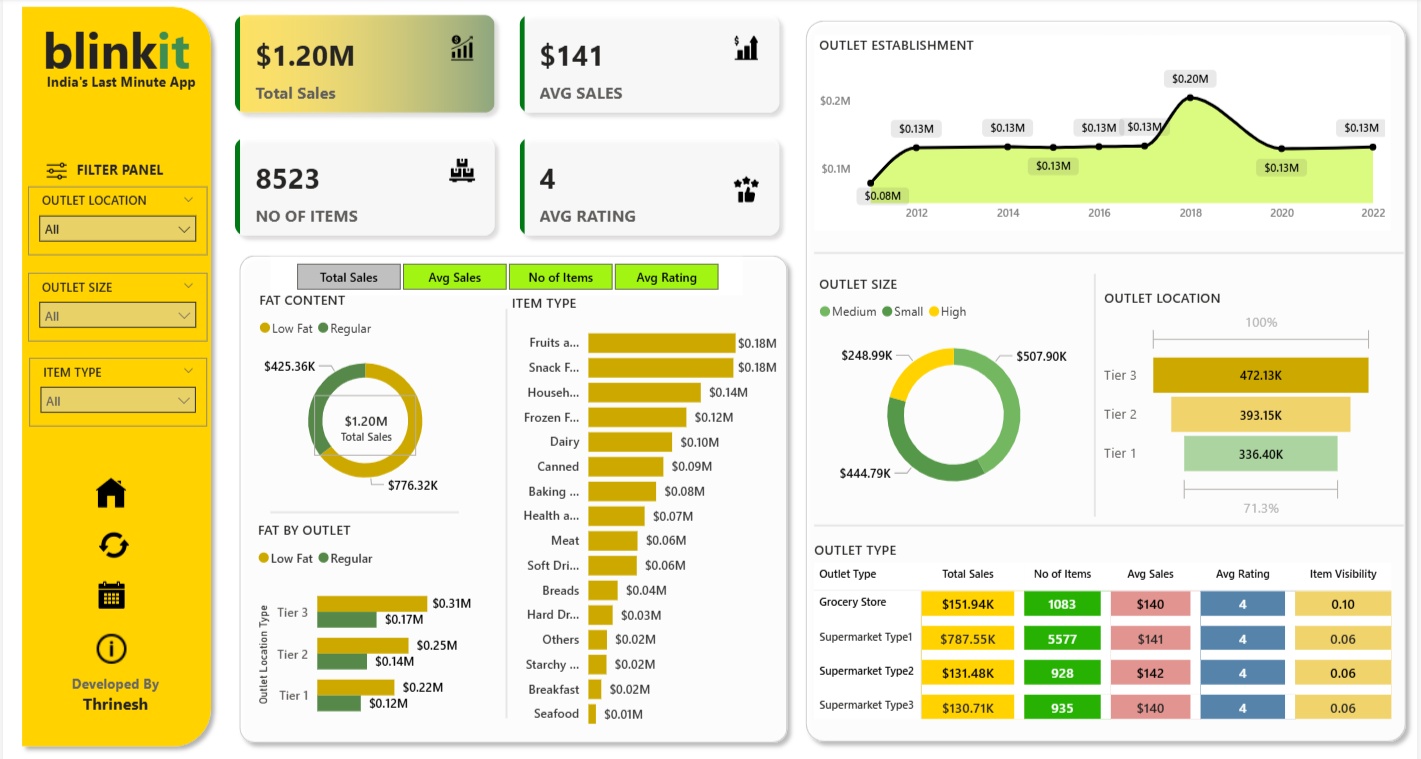

The page's visual inventory and layout, read from the dashboard file:
{"tool":"powerbi","page":{"name":"Page 1","canvas":[1400,800],"ordinal":0},"visuals":[{"type":"shape","box":[785,13.3,611.7,731.7],"z":0},{"type":"shape","box":[10,0,205,750],"z":1000},{"type":"textbox","box":[19.1,13.6,195,110.4],"z":2000},{"type":"textbox","box":[38.2,69.5,175.9,36.8],"z":3000},{"type":"cardVisual","fields":{"Data":["BlinkIT Grocery Data.Total Sales","BlinkIT Grocery Data.Avg Sales","BlinkIT Grocery Data.No of Items","BlinkIT Grocery Data.Avg Rating"]},"box":[212.7,0,572.6,253.6],"z":4000},{"type":"shape","box":[225.6,245.6,560,500],"z":5000},{"type":"donutChart","title":"FAT CONTENT","fields":{"Y":["BlinkIT Grocery Data.Total Sales"],"Category":["BlinkIT Grocery Data.Item Fat Content"]},"box":[248.8,290,220,212.5],"z":6000},{"type":"slicer","fields":{"Values":["Metrics.Metrics"]},"box":[265.9,254.9,467.6,38.2],"z":7000},{"type":"cardVisual","fields":{"Data":["BlinkIT Grocery Data.Total Sales"]},"box":[302.7,388.6,111.8,70.9],"z":8000},{"type":"clusteredBarChart","title":"FAT BY OUTLET","fields":{"Y":["BlinkIT Grocery Data.Total Sales"],"Category":["BlinkIT Grocery Data.Outlet Location Type"],"Series":["BlinkIT Grocery Data.Item Fat Content"]},"box":[247.5,517.5,221.2,212.5],"z":9000},{"type":"shape","box":[265,491.2,186.2,36.2],"z":10000},{"type":"shape","box":[405,307.5,187.5,405],"z":11000},{"type":"barChart","title":"ITEM TYPE","fields":{"Y":["BlinkIT Grocery Data.Total Sales"],"Category":["BlinkIT Grocery Data.Item Type"]},"box":[499,291.8,272.7,441.7],"z":12000},{"type":"shape","box":[803.3,230,583.3,45],"z":13000},{"type":"donutChart","title":"OUTLET SIZE","fields":{"Y":["BlinkIT Grocery Data.Total Sales"],"Category":["BlinkIT Grocery Data.Outlet Size"]},"box":[803.3,273.3,276.7,233.3],"z":14000},{"type":"shape","box":[986.7,273.3,186.7,240],"z":15000},{"type":"funnel","title":"OUTLET LOCATION","fields":{"Y":["Sum(BlinkIT Grocery Data.Sales)"],"Category":["BlinkIT Grocery Data.Outlet Location Type"]},"box":[1085,286.7,276.7,233.3],"z":16000},{"type":"shape","box":[803.3,500,583.3,45],"z":17000},{"type":"pivotTable","title":"OUTLET TYPE","fields":{"Rows":["BlinkIT Grocery Data.Outlet Type"],"Values":["BlinkIT Grocery Data.Total Sales","BlinkIT Grocery Data.No of Items","BlinkIT Grocery Data.Avg Sales","BlinkIT Grocery Data.Avg Rating","Avg(BlinkIT Grocery Data.Item Visibility)"]},"box":[797.5,536.2,582.5,185],"z":18000},{"type":"lineChart","title":"OUTLET ESTABLISHMENT","fields":{"Y":["BlinkIT Grocery Data.Total Sales"],"Category":["BlinkIT Grocery Data.Outlet Establishment Year"]},"box":[803.3,36.7,570,193.3],"z":19000},{"type":"slicer","fields":{"Values":["BlinkIT Grocery Data.Outlet Location Type"]},"box":[24.5,186.8,177.2,68.2],"z":20000},{"type":"slicer","fields":{"Values":["BlinkIT Grocery Data.Outlet Size"]},"box":[24.5,272.7,177.2,68.2],"z":21000},{"type":"slicer","fields":{"Values":["BlinkIT Grocery Data.Item Type"]},"box":[25.9,355.8,175.9,68.2],"z":22000},{"type":"textbox","box":[68.2,155.4,98.2,31.4],"z":23000},{"type":"image","box":[38.2,155.4,30,31.4],"z":24000},{"type":"image","box":[84.5,470.4,46.4,40.9],"z":25000},{"type":"image","box":[87.3,572.6,39.5,38.2],"z":26000},{"type":"image","box":[87.3,624.4,39.5,39.5],"z":27000},{"type":"image","box":[87.3,522.2,43.6,39.5],"z":28000}]}

Visuals, with their boxes on the page's 1400x800 design canvas (x1, y1, x2, y2). These are canvas units, not pixel positions in the 1421x759 screenshot, which may show the page scaled, cropped or inside an application window:
shape: [left=785, top=13, right=1397, bottom=745]
shape: [left=10, top=0, right=215, bottom=750]
textbox: [left=19, top=14, right=214, bottom=124]
textbox: [left=38, top=70, right=214, bottom=106]
cardVisual - BlinkIT Grocery Data.Total Sales x BlinkIT Grocery Data.Avg Sales: [left=213, top=0, right=785, bottom=254]
shape: [left=226, top=246, right=786, bottom=746]
"FAT CONTENT" donutChart: [left=249, top=290, right=469, bottom=502]
slicer - Metrics.Metrics: [left=266, top=255, right=734, bottom=293]
cardVisual - BlinkIT Grocery Data.Total Sales: [left=303, top=389, right=414, bottom=460]
"FAT BY OUTLET" clusteredBarChart: [left=248, top=518, right=469, bottom=730]
shape: [left=265, top=491, right=451, bottom=527]
shape: [left=405, top=308, right=592, bottom=712]
"ITEM TYPE" barChart: [left=499, top=292, right=772, bottom=734]
shape: [left=803, top=230, right=1387, bottom=275]
"OUTLET SIZE" donutChart: [left=803, top=273, right=1080, bottom=507]
shape: [left=987, top=273, right=1173, bottom=513]
"OUTLET LOCATION" funnel: [left=1085, top=287, right=1362, bottom=520]
shape: [left=803, top=500, right=1387, bottom=545]
"OUTLET TYPE" pivotTable: [left=798, top=536, right=1380, bottom=721]
"OUTLET ESTABLISHMENT" lineChart: [left=803, top=37, right=1373, bottom=230]
slicer - BlinkIT Grocery Data.Outlet Location Type: [left=24, top=187, right=202, bottom=255]
slicer - BlinkIT Grocery Data.Outlet Size: [left=24, top=273, right=202, bottom=341]
slicer - BlinkIT Grocery Data.Item Type: [left=26, top=356, right=202, bottom=424]
textbox: [left=68, top=155, right=166, bottom=187]
image: [left=38, top=155, right=68, bottom=187]
image: [left=84, top=470, right=131, bottom=511]
image: [left=87, top=573, right=127, bottom=611]
image: [left=87, top=624, right=127, bottom=664]
image: [left=87, top=522, right=131, bottom=562]
